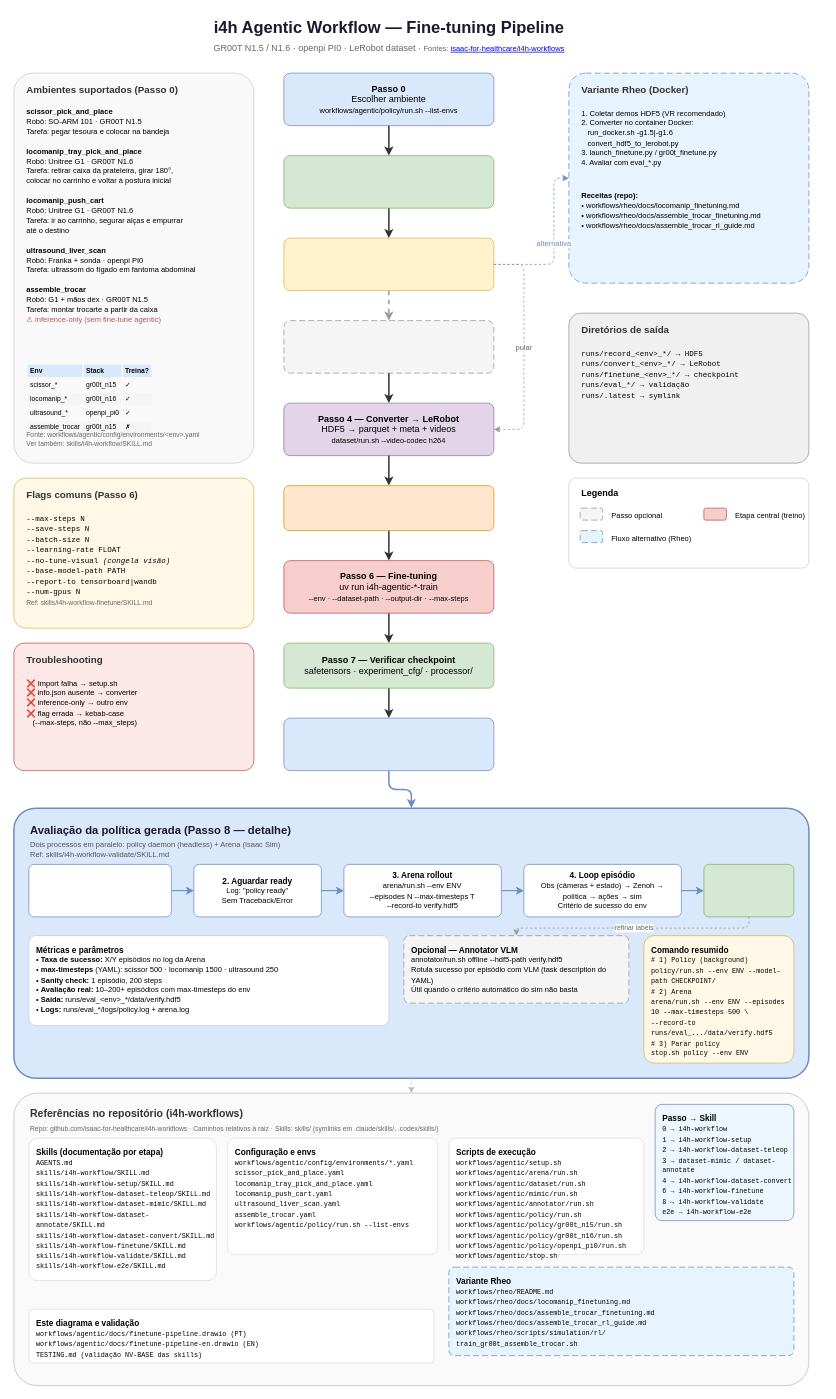
This 836x1399 diagram has some shape labels left out. Here are the shapes that lost their labels. From the top down, the centre of each, then its label:
At point 388,181: "Passo 1 — Setup Instalar deps e third-party workflows/agentic/setup.sh".
At point 388,264: "Passo 2 — Gravar demos Teleop → HDF5 arena/run.sh --env ENV --teleop --record".
At point 388,346: "Passo 3 — Opcional Mimic (expandir HDF5) Annotate (VLM / filtrar)".
At point 388,508: "Passo 5 — Preflight meta/info.json · nvidia-smi · --list-envs".
At point 388,744: "Passo 8 — Validar política Rollout no Isaac Sim policy daemon + arena/run.sh".
At point 99,890: "1. Policy daemon policy/run.sh --env ENV --model-path checkpoint-NNNN/".
At point 748,890: "5. Resultado Log: run complete: X/Y episodes succeeded → taxa de sucesso".
